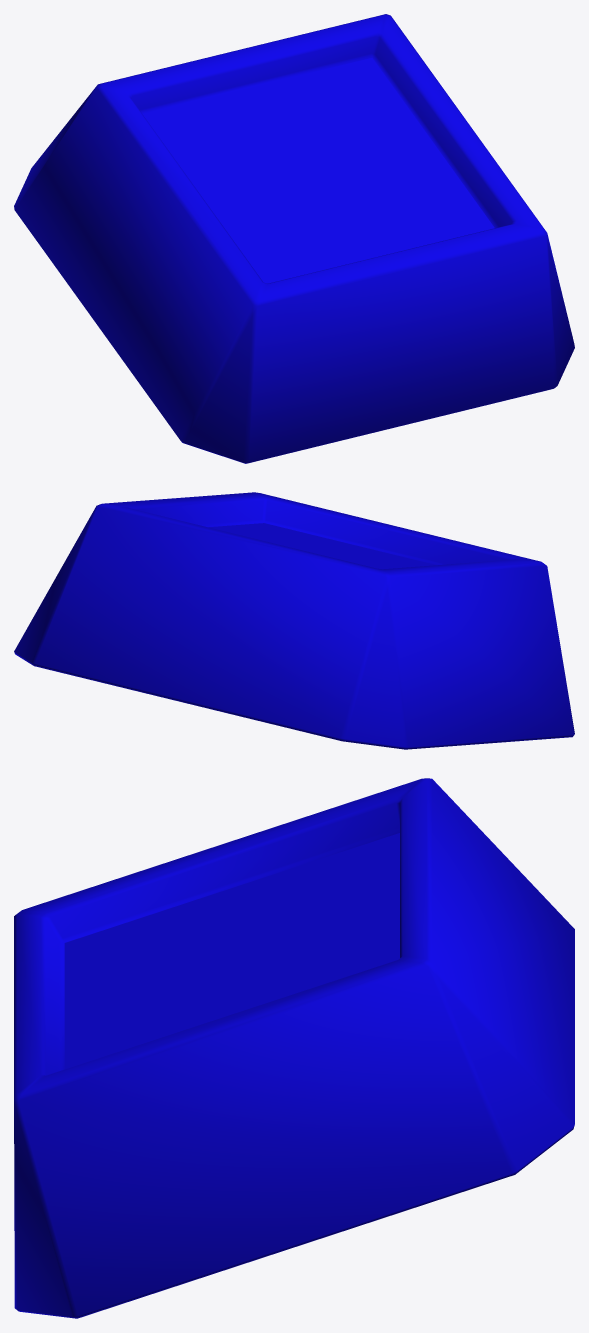
File: just panel.fbx
The picture shows the model from 3 angles, top to bottom: view 1: azimuth 30°, elevation 25°; view 2: azimuth 150°, elevation 25°; view 3: azimuth 270°, elevation 25°; orthographic projection. The views are drawn at different scales.
Visible parts, largest first — view 1: screenPanels.001; view 2: screenPanels.001; view 3: screenPanels.001.
Part boxes in pixels (box(x1,y1,x2,y2)): screenPanels.001: box(14, 14, 574, 463); screenPanels.001: box(14, 492, 574, 749); screenPanels.001: box(14, 778, 574, 1318).
Bounding box in the file's own units: 29.36 × 18.71 × 27.64.
